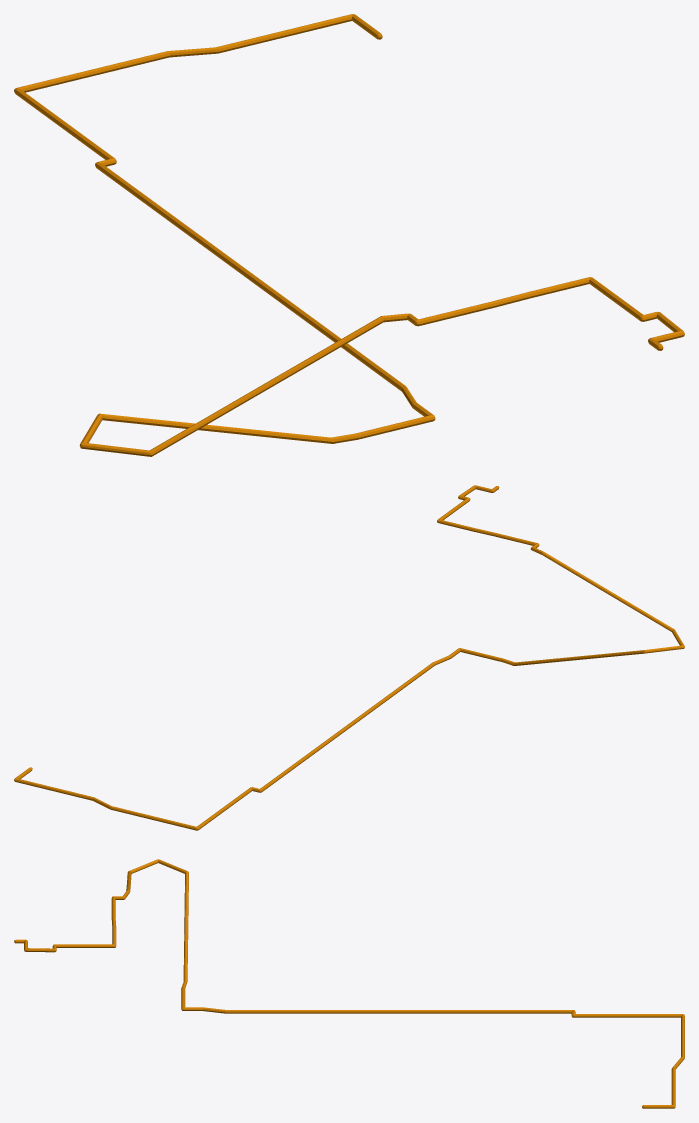
3 renders of one model, top to bottom at view 1: azimuth 30°, elevation 25°; view 2: azimuth 150°, elevation 25°; view 3: azimuth 270°, elevation 25°, orthographic. The views are drawn at different scales.
Size of the model in its own units: 2407 by 520 by 3372.
